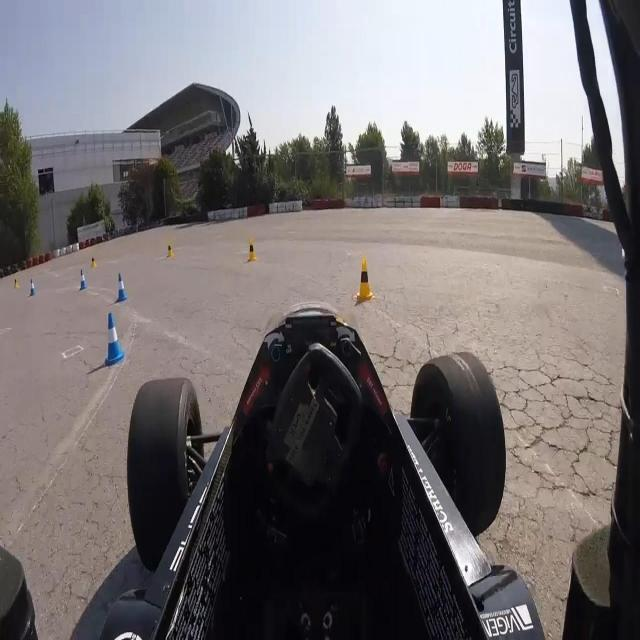blue_cone: (101, 310, 128, 366), (114, 270, 129, 304), (78, 268, 88, 290), (28, 279, 36, 298)
yellow_cone: (353, 256, 374, 303), (246, 235, 258, 262), (166, 242, 173, 257), (91, 256, 98, 270), (13, 277, 20, 290)
